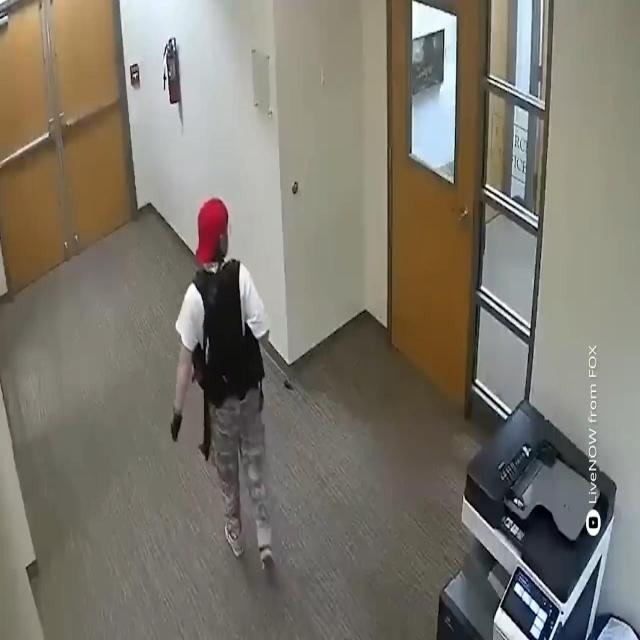gun: (166, 199, 280, 581), (195, 347, 213, 465)
